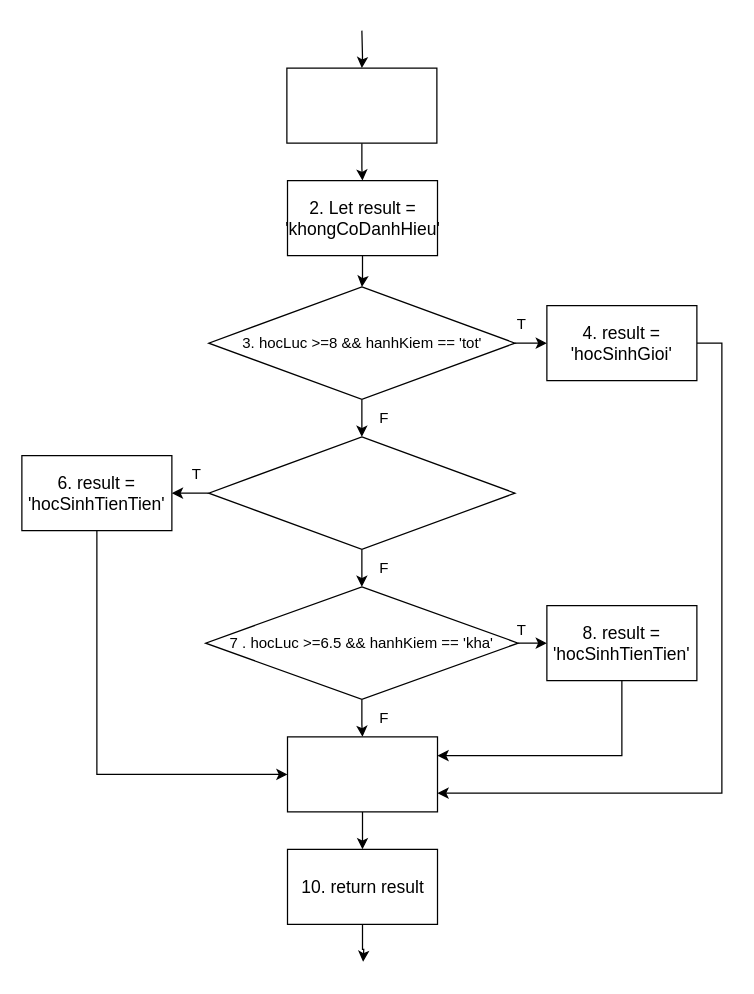
Image size: 754x994. Some labels were removed from this diagram. The shapes that lost their labels are listed below. From the top down, each one's box as (x1, y1, x2, y2) in pixels, then its label:
(286, 67, 437, 143): 1. input(hocLuc, danhHieu)
(208, 436, 515, 549): 5. hocLuc >=6.5 && hanhKiem == 'tot'
(286, 736, 438, 812): 9. result = 'khongCoDanhHieu
